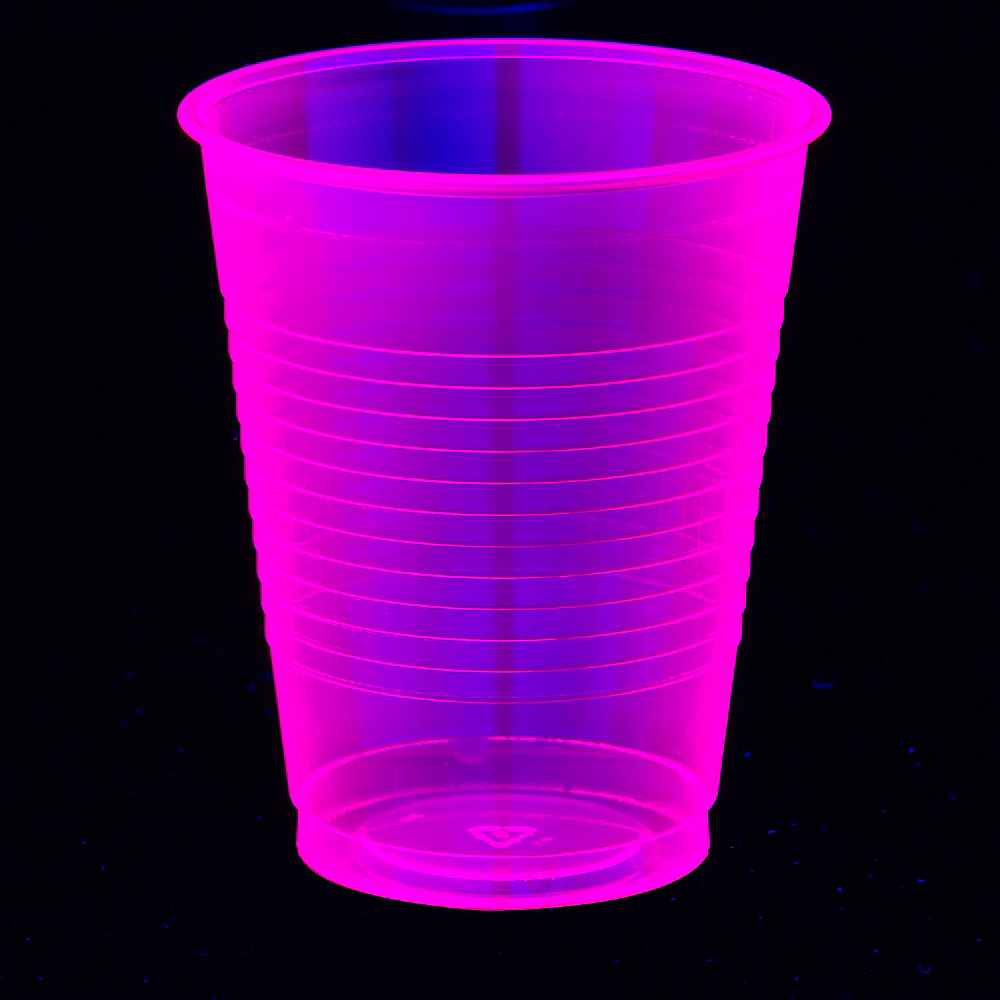plastic_glass: (170, 32, 849, 932)
